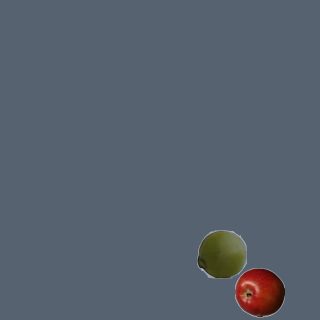Apple Braeburn: (234, 267, 284, 317)
Grape White 4: (196, 228, 246, 278)
